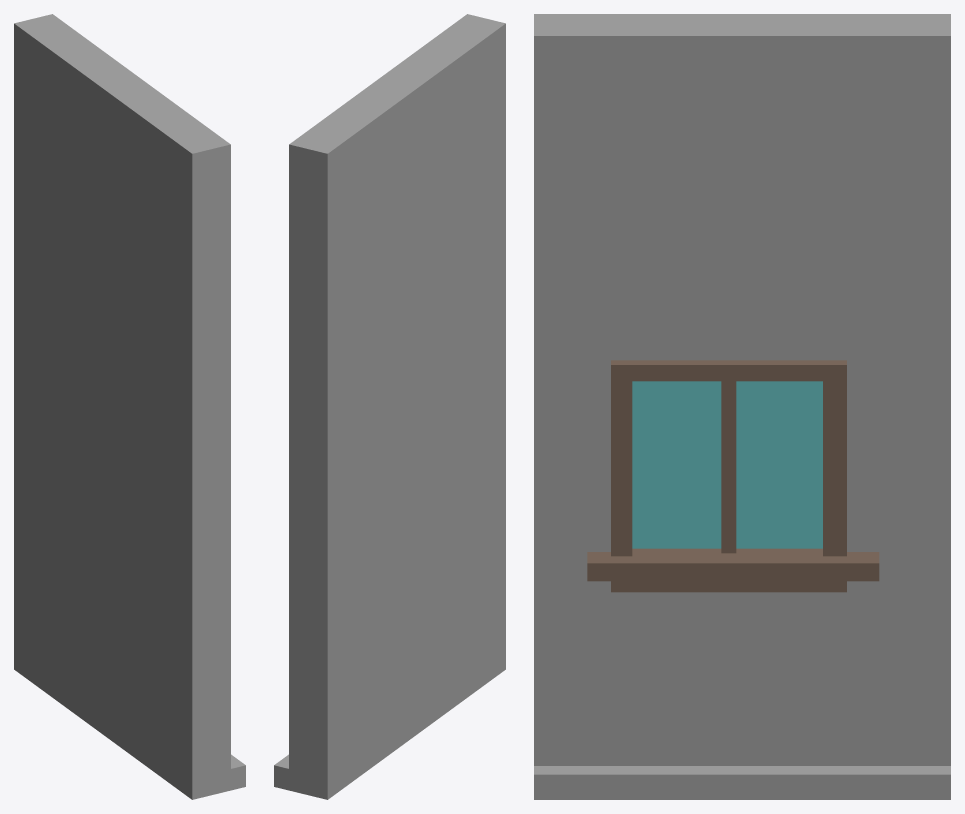
File: SM_wall_window.fbx
3 renders of one model, left to right at view 1: azimuth 30°, elevation 25°; view 2: azimuth 150°, elevation 25°; view 3: azimuth 270°, elevation 25°, orthographic. The views are drawn at different scales.
Parts seen in each view (by area): view 1: window_wall; view 2: window_wall; view 3: window_wall.
Boxes of the visible parts, x1,y1,x2,y2 form: window_wall: (14,14,245,799); window_wall: (274,14,505,799); window_wall: (534,14,950,799).
Size of the model in its own units: 0.3792 by 4 by 2.
